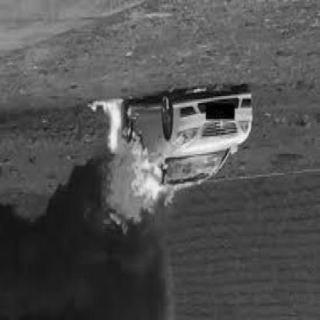Fire: (81, 98, 211, 235)
Smoke: (0, 226, 168, 320)
